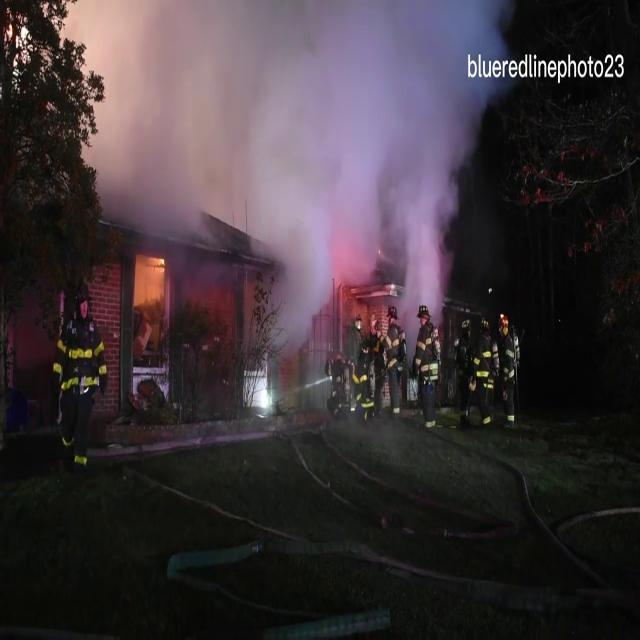Smoke: (86, 0, 498, 308)
